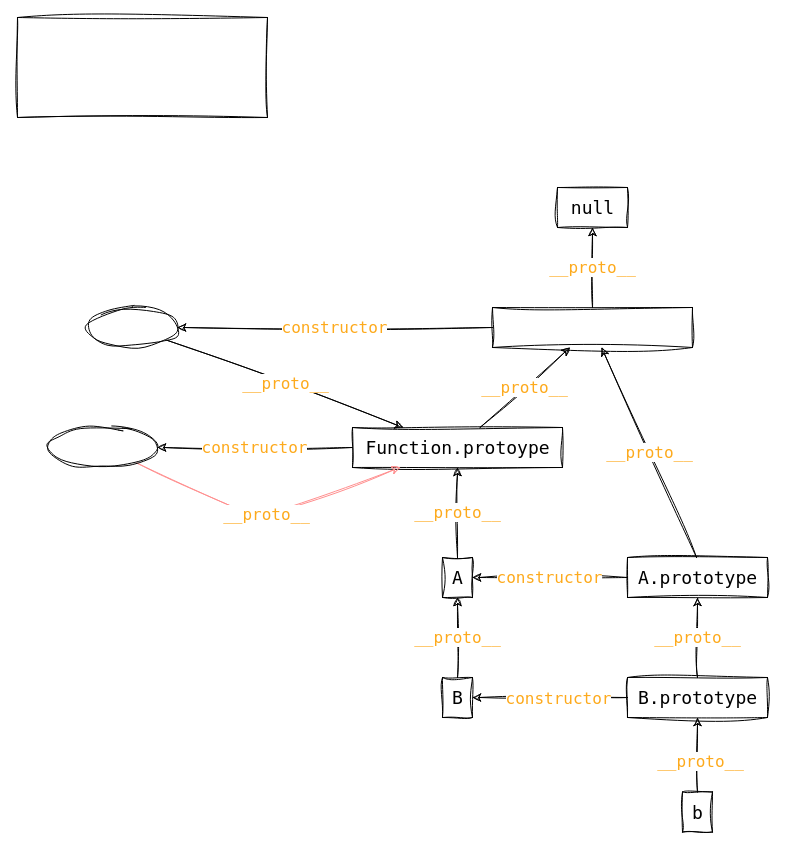
The diagram is 785 pixels wide and 850 high, and some of its shapes have lost their labels. Each missing label, with the centre of its shape:
class A {} class B extends A {} const b = new B();: pixel 142 67
Function: pixel 102 447
Object: pixel 132 327
Object.prototype: pixel 592 327
